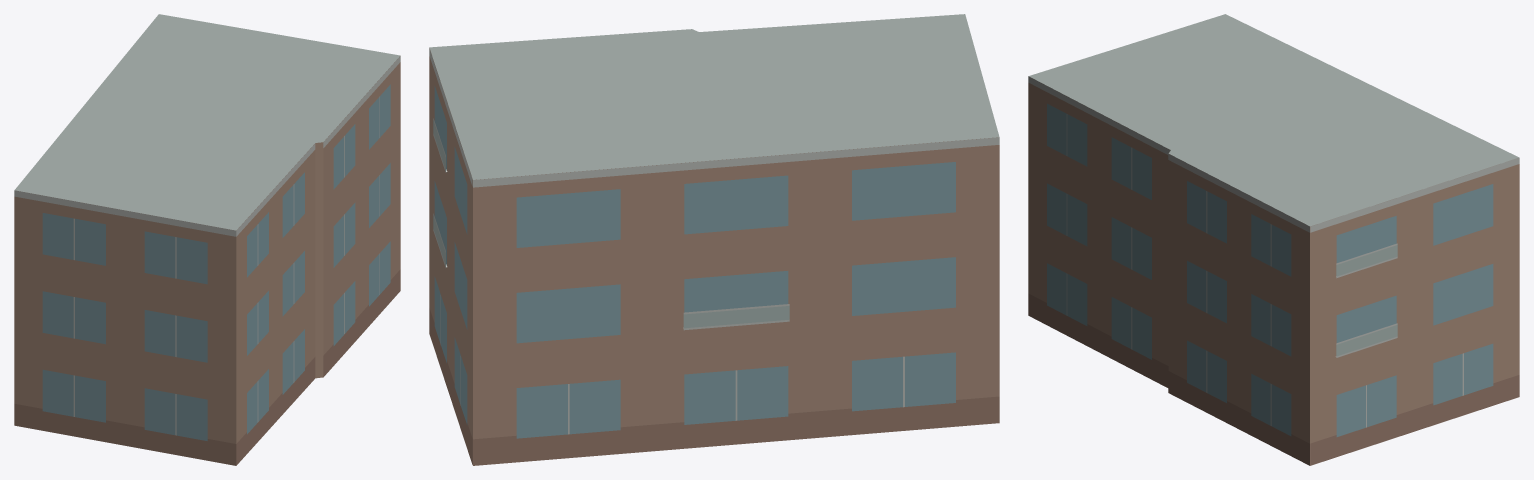
The model's file is survey-upis-33005830.glb.
3 views of the same model, side by side, from view 1: azimuth 30°, elevation 25°; view 2: azimuth 150°, elevation 25°; view 3: azimuth 270°, elevation 25° (orthographic). The views are drawn at different scales.
Visible parts, largest first — view 1: survey-upis-33005830.tmp; view 2: survey-upis-33005830.tmp; view 3: survey-upis-33005830.tmp.
Part boxes in pixels (x1,y1,x2,y2): survey-upis-33005830.tmp: (14,14,400,465); survey-upis-33005830.tmp: (429,14,999,465); survey-upis-33005830.tmp: (1028,14,1519,465).
Size of the model in its own units: 17.42 by 9.15 by 17.02.
